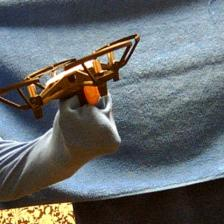drone: (1, 31, 140, 117)
